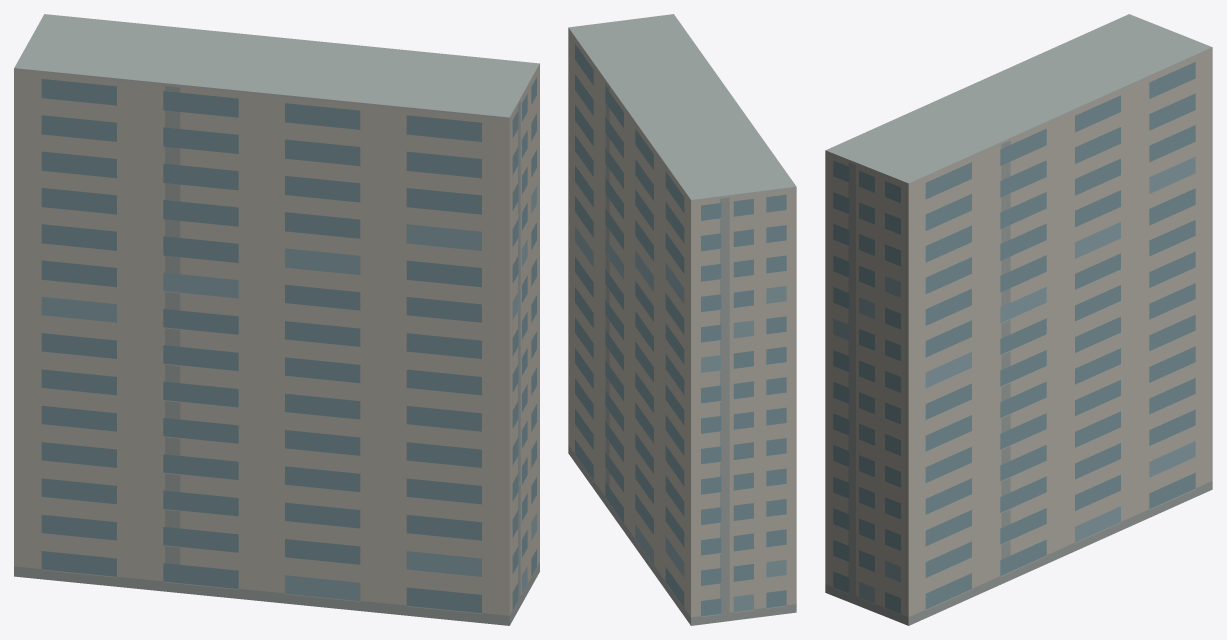
File: residential-df02bdef-7a44-47b0-b8c7-965ddcd2b89d.glb
3 views of the same model, side by side, from view 1: azimuth 30°, elevation 25°; view 2: azimuth 150°, elevation 25°; view 3: azimuth 270°, elevation 25° (orthographic). The views are drawn at different scales.
Parts seen in each view (by area): view 1: residential-df02bdef-7a44-47b0-b8c7-965ddcd2b89d.tmp; view 2: residential-df02bdef-7a44-47b0-b8c7-965ddcd2b89d.tmp; view 3: residential-df02bdef-7a44-47b0-b8c7-965ddcd2b89d.tmp.
Part boxes in pixels (<box>): residential-df02bdef-7a44-47b0-b8c7-965ddcd2b89d.tmp: <box>14,14,539,625</box>; residential-df02bdef-7a44-47b0-b8c7-965ddcd2b89d.tmp: <box>568,14,796,625</box>; residential-df02bdef-7a44-47b0-b8c7-965ddcd2b89d.tmp: <box>825,14,1212,625</box>.
Bounding box in the file's own units: 35.33 × 43 × 34.09.
